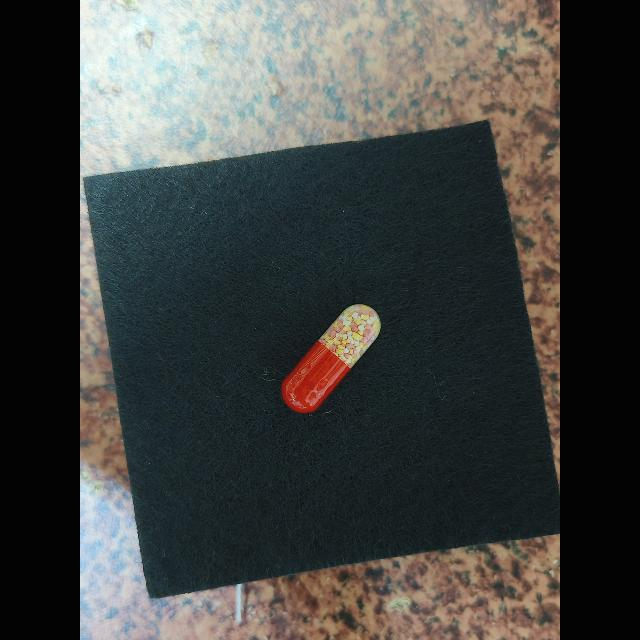Intact Capsule: (281, 304, 381, 413)
